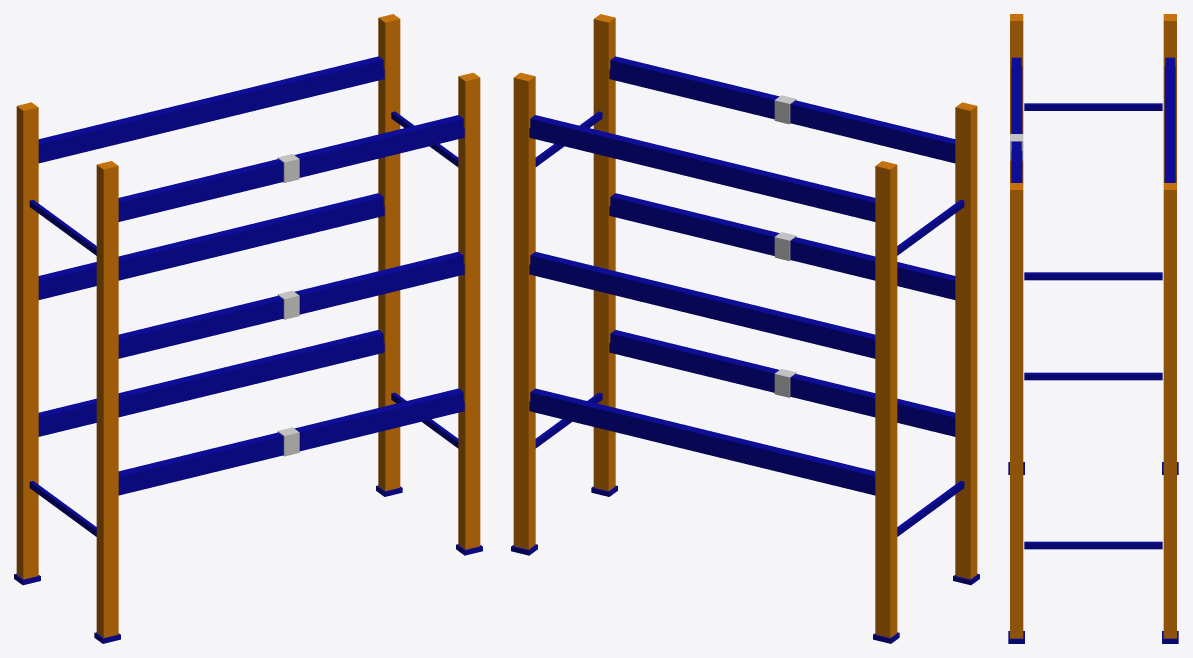
Rendered from high-duty-C25-3.glb.
3 views of the same model, side by side, from view 1: azimuth 30°, elevation 25°; view 2: azimuth 150°, elevation 25°; view 3: azimuth 270°, elevation 25° (orthographic). The views are drawn at different scales.
Parts seen in each view (by area): view 1: part_0, part_4, part_2, part_6, part_20, part_18, part_8, part_13, part_15, part_10, part_21, part_14 (+6 smaller); view 2: part_4, part_0, part_6, part_2, part_20, part_10, part_15, part_18, part_13, part_8, part_16, part_11 (+6 smaller); view 3: part_2, part_6, part_20, part_18, part_23, part_25, part_26, part_4, part_24, part_0, part_21, part_19.
Part boxes in pixels (x1,y1,x2,y2): part_0: (96, 161, 118, 638); part_4: (16, 102, 38, 579); part_2: (458, 72, 480, 549); part_6: (378, 14, 400, 491); part_20: (38, 56, 383, 153); part_18: (118, 115, 463, 212); part_8: (118, 388, 463, 485); part_13: (118, 251, 463, 348); part_15: (38, 193, 383, 290); part_10: (38, 330, 383, 426); part_21: (38, 69, 384, 163); part_14: (118, 264, 464, 358); part_4: (875, 161, 897, 638); part_0: (955, 102, 977, 579); part_6: (513, 72, 535, 549); part_2: (593, 14, 615, 491); part_20: (530, 115, 875, 212); part_10: (530, 388, 875, 485); part_15: (530, 251, 875, 348); part_18: (610, 56, 955, 153); part_13: (610, 193, 955, 290); part_8: (610, 330, 955, 426); part_16: (529, 264, 875, 358); part_11: (529, 401, 875, 495); part_2: (1010, 183, 1023, 638); part_6: (1163, 183, 1176, 638); part_20: (1165, 57, 1175, 182); part_18: (1011, 57, 1021, 182); part_23: (1024, 372, 1162, 380); part_25: (1024, 541, 1162, 549); part_26: (1024, 272, 1162, 280); part_4: (1163, 14, 1176, 182); part_24: (1024, 103, 1162, 110); part_0: (1010, 14, 1023, 182); part_21: (1164, 66, 1175, 182); part_19: (1011, 66, 1022, 182).
Bounding box in the file's own units: 2520 × 3000 × 1020.
